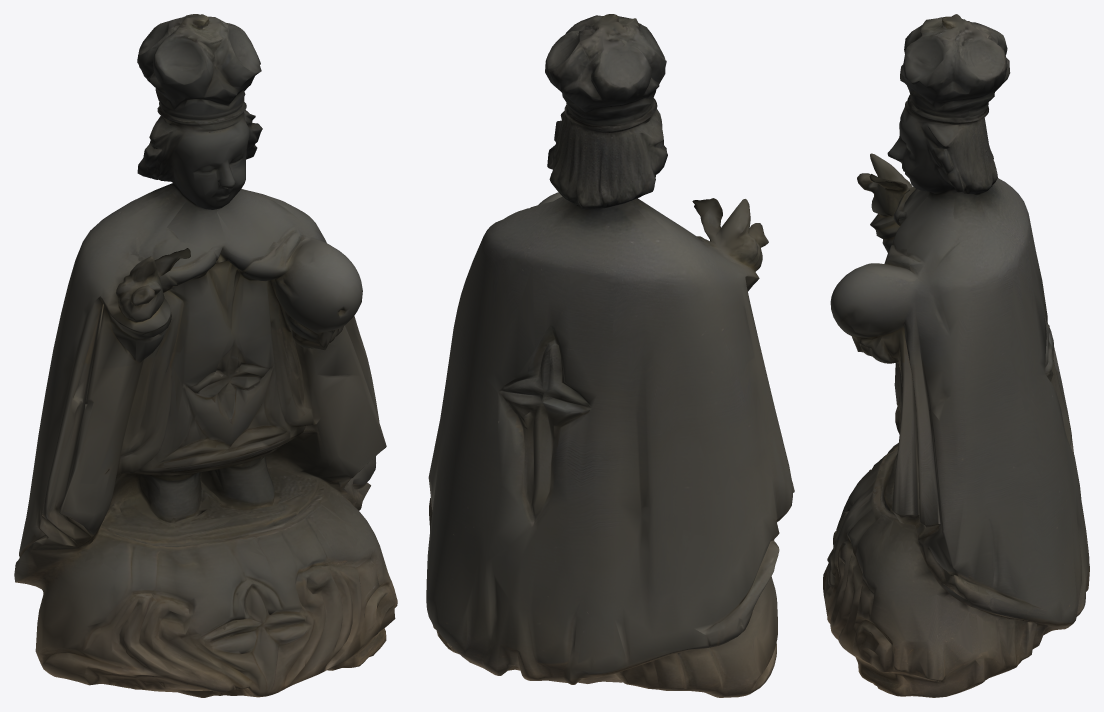
The model's file is santo_nino.glb.
The picture shows the model from 3 angles, left to right: view 1: azimuth 30°, elevation 25°; view 2: azimuth 150°, elevation 25°; view 3: azimuth 270°, elevation 25°; orthographic projection. The views are drawn at different scales.
Visible parts, largest first — view 1: node_0; view 2: node_0; view 3: node_0.
Boxes of the visible parts, box(x1,y1,x2,y2) form: node_0: box(14, 14, 397, 697); node_0: box(426, 14, 794, 697); node_0: box(823, 14, 1089, 697).
Bounding box in the file's own units: 0.6017 × 1.07 × 0.4262.
1 material, 1 textured.
